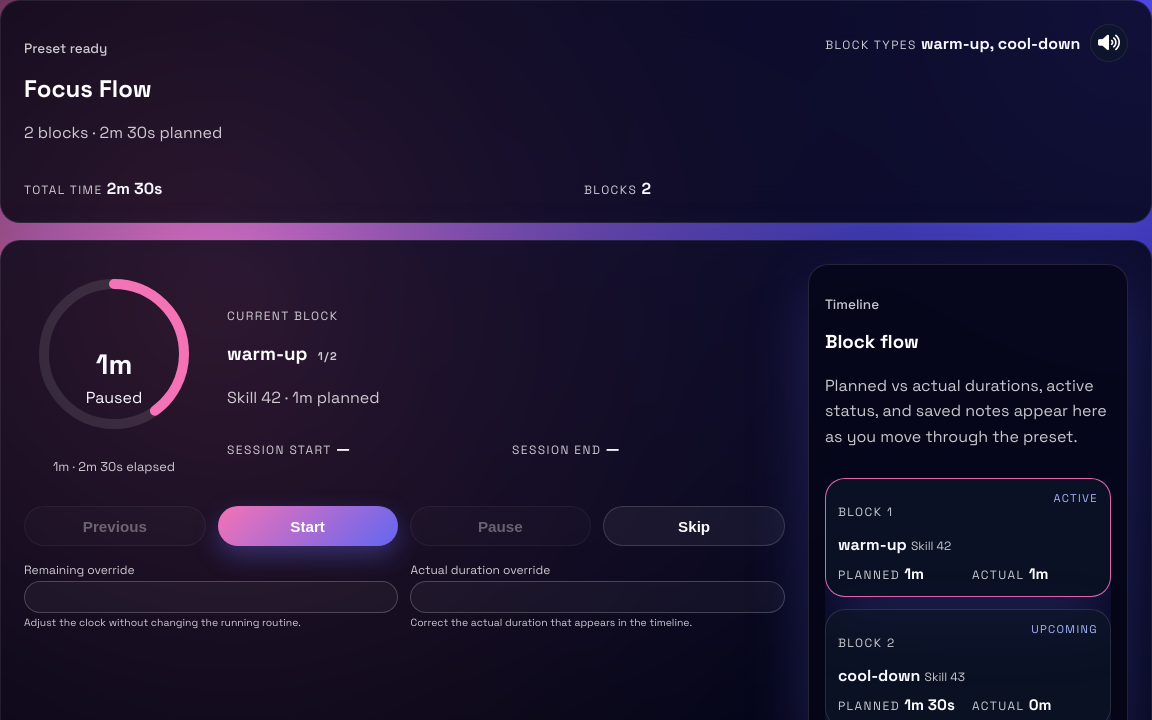
Test case: manual actual override updates timeline actual duration
This screenshot has width=1152, height=720.
Type "45" into the number field with test id "actual-override-input" at (598, 597), box [410,581,785,612]
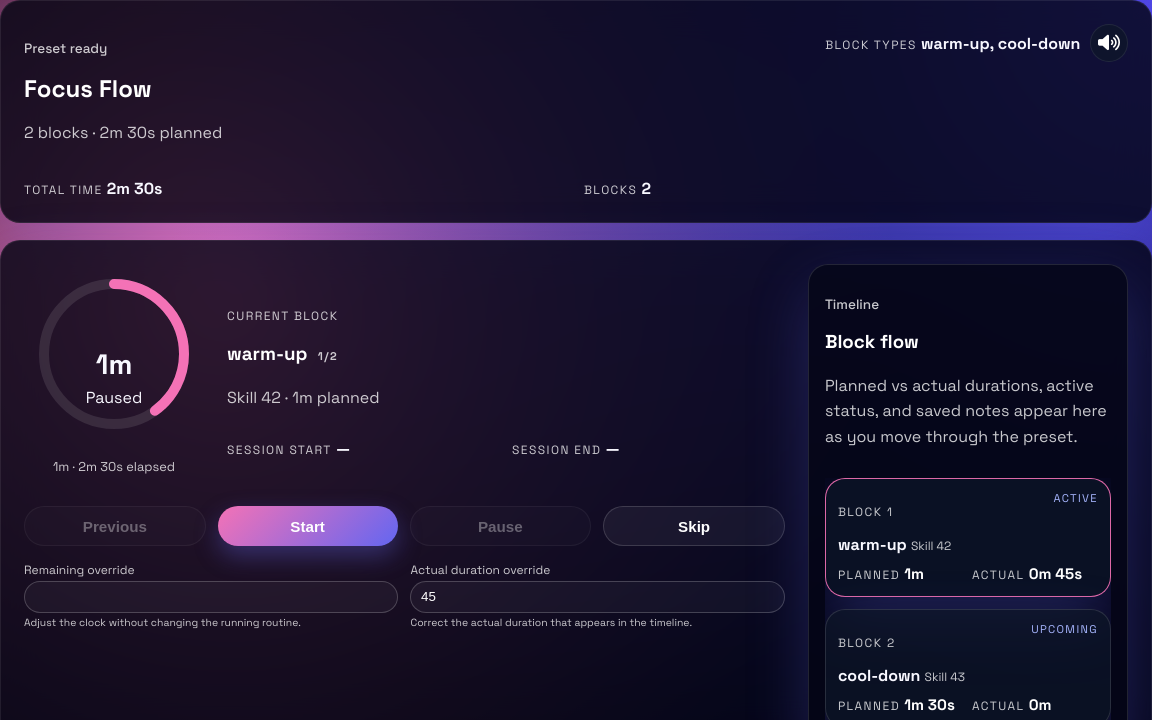
Expected: the text with test id "timeline-actual-1" reads "0m 45s", [1029,564,1082,583]
